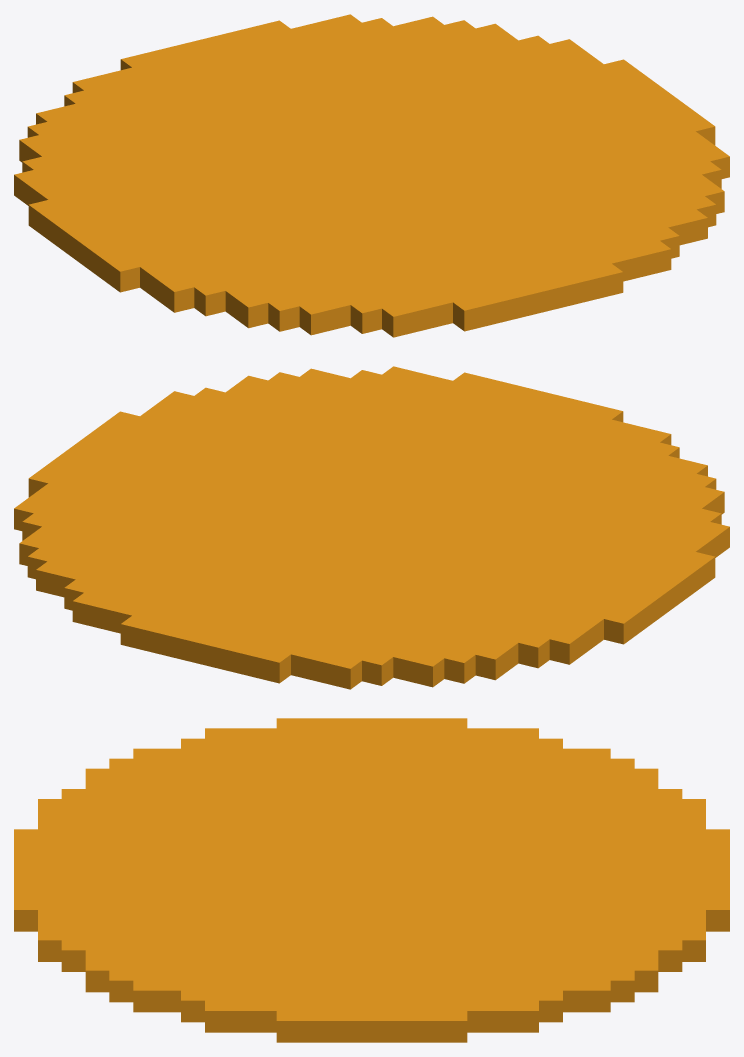
File: ZonaRiesgoNaranja.obj
3 views of the same model, one above another, from view 1: azimuth 30°, elevation 25°; view 2: azimuth 150°, elevation 25°; view 3: azimuth 270°, elevation 25° (orthographic). The views are drawn at different scales.
Bounding box in the file's own units: 3 × 0.1 × 3.
1 material, 1 textured.
